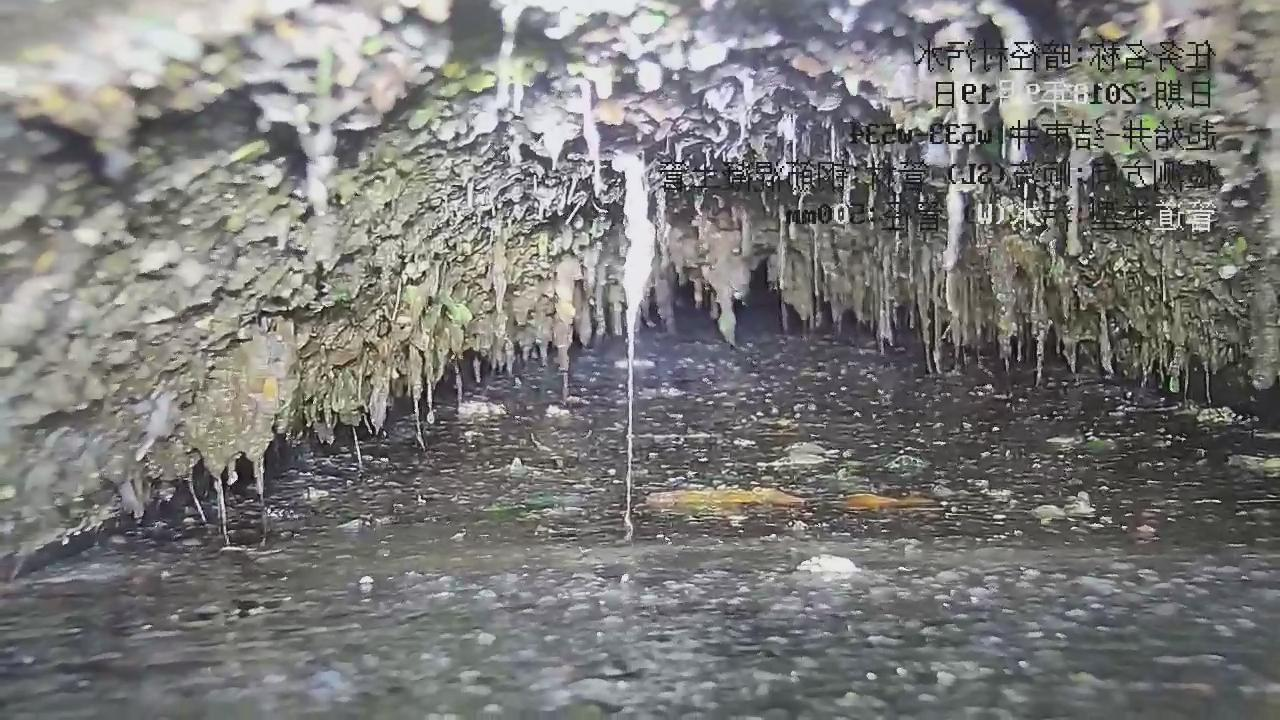FZ: (1, 338, 1280, 719)
JG: (1, 0, 1280, 557)
